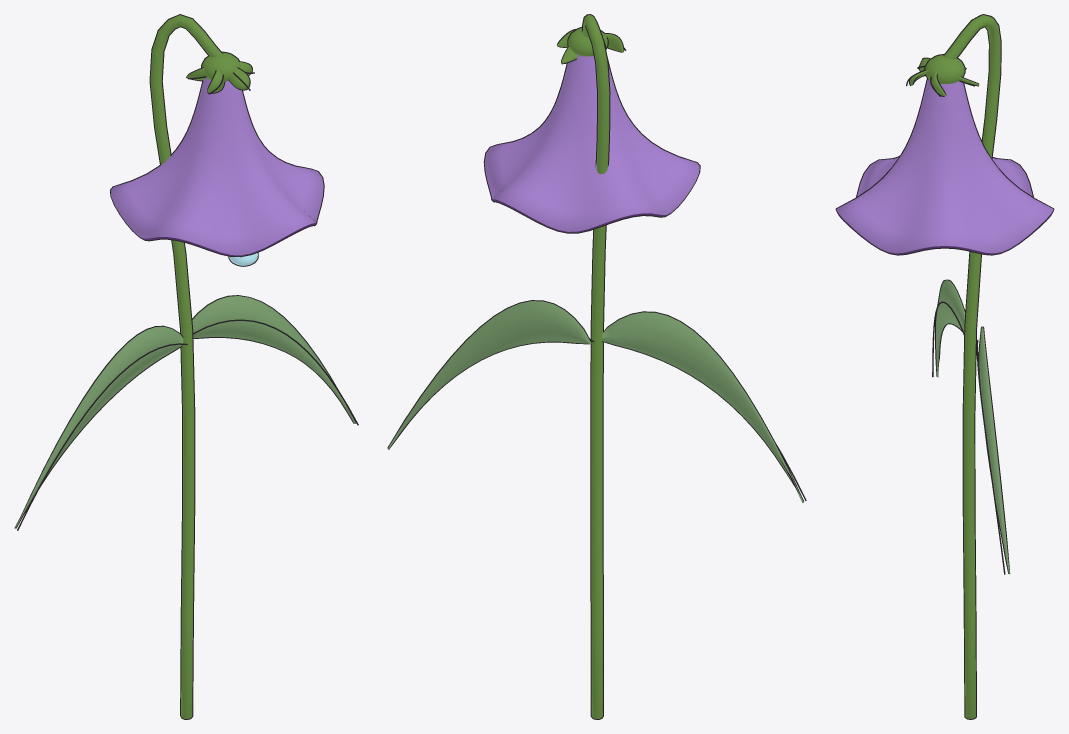
The model's file is pleurelune_toon.glb.
3 renders of one model, left to right at view 1: azimuth 30°, elevation 25°; view 2: azimuth 150°, elevation 25°; view 3: azimuth 270°, elevation 25°, orthographic.
Visible parts, largest first — view 1: pleurelune_Geometry; view 2: pleurelune_Geometry; view 3: pleurelune_Geometry.
Boxes of the visible parts, x1,y1,x2,y2 form: pleurelune_Geometry: [14, 14, 358, 719]; pleurelune_Geometry: [387, 14, 806, 719]; pleurelune_Geometry: [835, 14, 1054, 719].
Bounding box in the file's own units: 0.3072 × 0.5439 × 0.1534.
